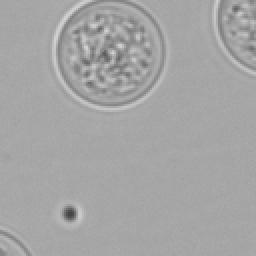picoshell: (52, 0, 166, 110), (214, 0, 254, 74), (0, 226, 30, 254)
